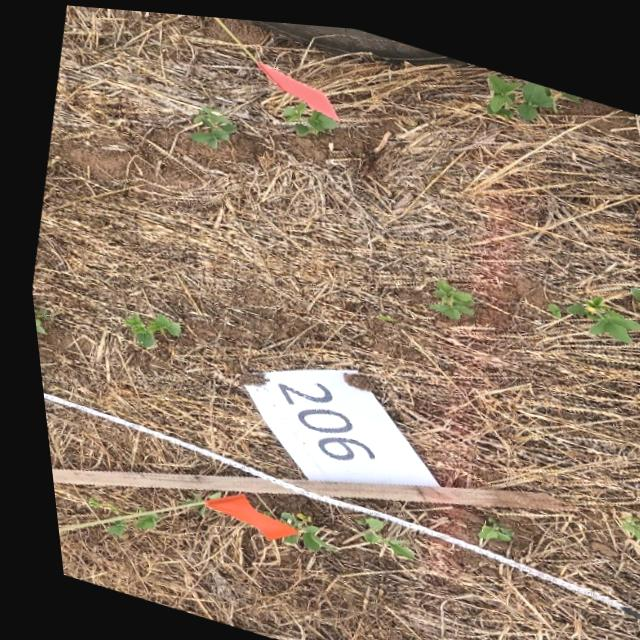soy_plant: (559, 286, 633, 332), (485, 65, 553, 111), (345, 511, 400, 551), (268, 507, 321, 546), (187, 103, 233, 145), (279, 96, 334, 131), (117, 311, 172, 345), (422, 273, 467, 312), (609, 505, 640, 535), (465, 509, 501, 533), (121, 511, 145, 528), (27, 309, 42, 333), (92, 519, 113, 536), (624, 276, 640, 298), (554, 80, 577, 91), (541, 294, 553, 308)
